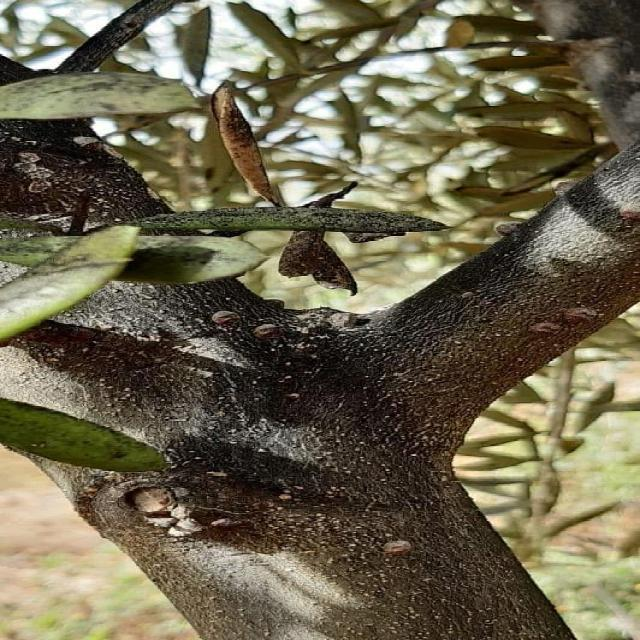BlackScale: (530, 307, 596, 337), (326, 310, 369, 329), (212, 310, 246, 328), (494, 222, 524, 239), (382, 540, 412, 556), (253, 324, 279, 341)
